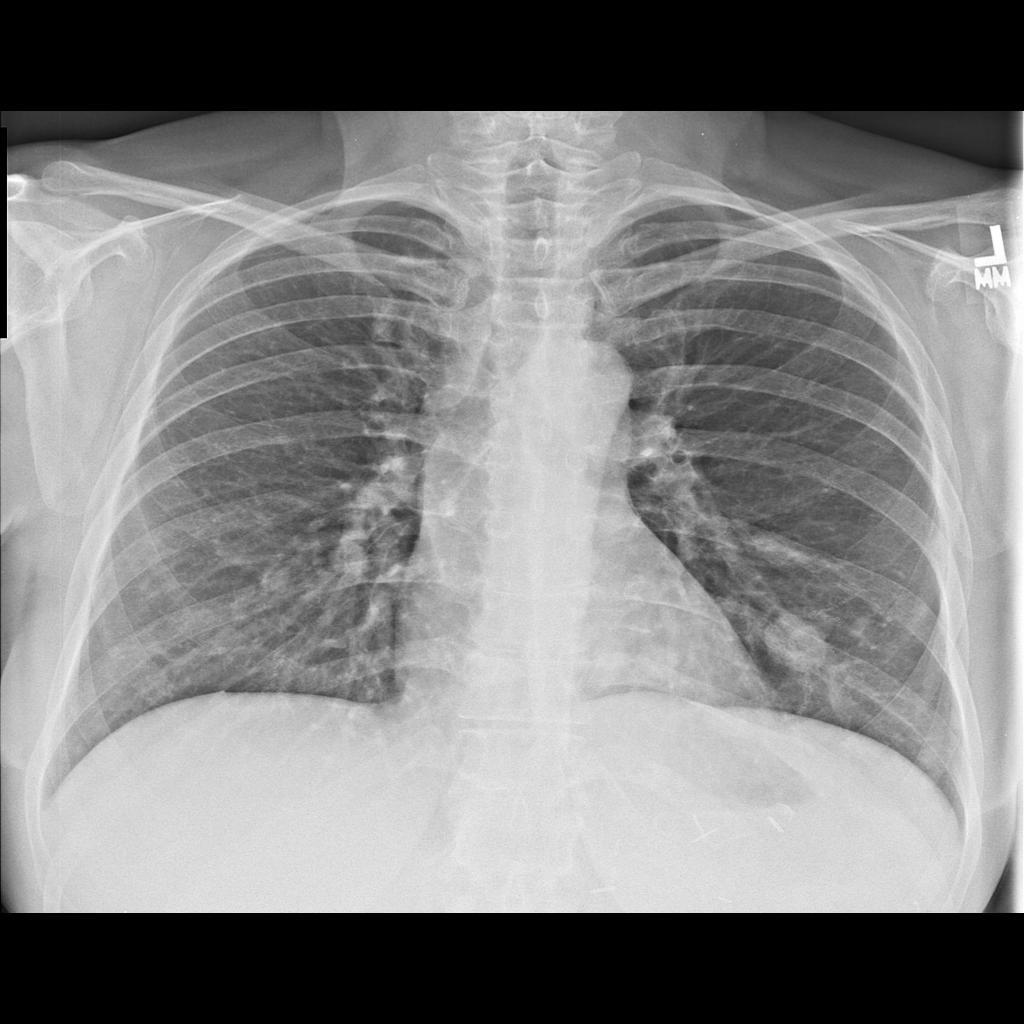Nodule: (762, 616, 838, 674)
